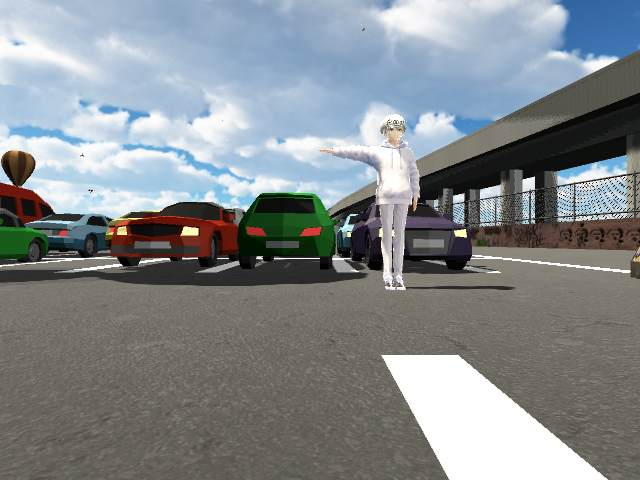singleP_left: (320, 111, 418, 293)
